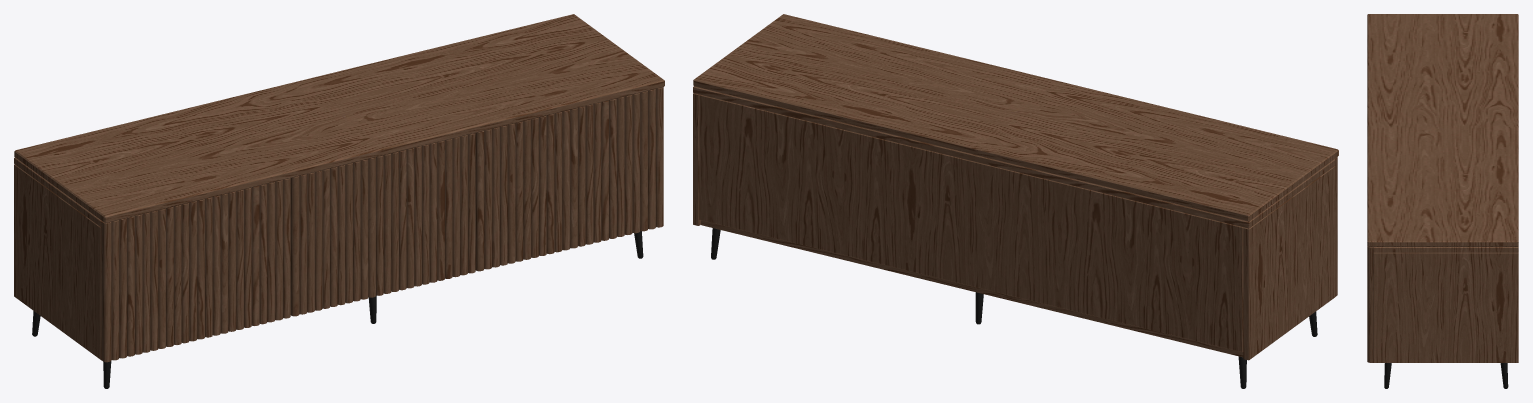
Rendered from mueble_tv_nogal_160.glb.
The picture shows the model from 3 angles, left to right: view 1: azimuth 30°, elevation 25°; view 2: azimuth 150°, elevation 25°; view 3: azimuth 270°, elevation 25°; orthographic projection. The views are drawn at different scales.
Parts seen in each view (by area): view 1: mueble_tv_nogal_160; view 2: mueble_tv_nogal_160; view 3: mueble_tv_nogal_160.
Part boxes in pixels (box(x1,y1,x2,y2)): mueble_tv_nogal_160: box(14, 14, 664, 388); mueble_tv_nogal_160: box(693, 14, 1338, 388); mueble_tv_nogal_160: box(1367, 14, 1518, 388).
Size of the model in its own units: 1.6 by 0.5003 by 0.4501.
2 materials, 1 textured.
